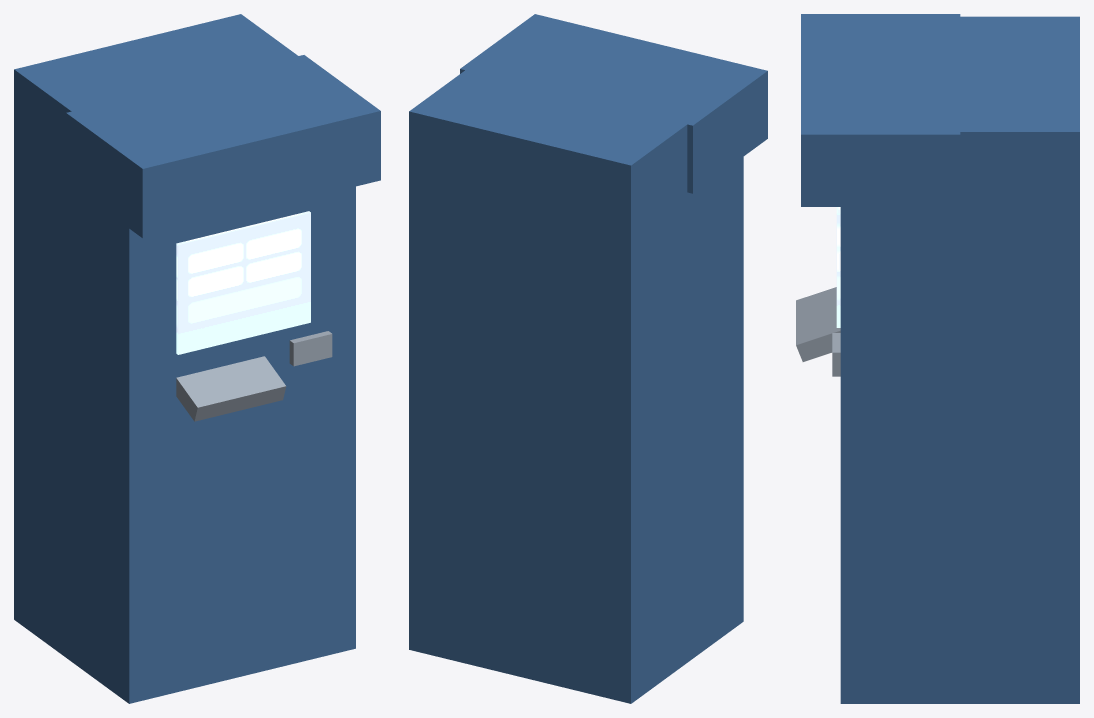
Rendered from prop_atm_machine.glb.
The picture shows the model from 3 angles, left to right: view 1: azimuth 30°, elevation 25°; view 2: azimuth 150°, elevation 25°; view 3: azimuth 270°, elevation 25°; orthographic projection. The views are drawn at different scales.
Visible parts, largest first — view 1: primary_color, screen_display, keypad_slot; view 2: primary_color; view 3: primary_color, keypad_slot, screen_display.
Boxes of the visible parts, <box> form: primary_color: <box>14,14,380,703</box>; screen_display: <box>176,211,310,354</box>; keypad_slot: <box>176,331,332,421</box>; primary_color: <box>409,14,767,703</box>; primary_color: <box>801,14,1079,703</box>; keypad_slot: <box>796,287,840,376</box>; screen_display: <box>836,207,840,327</box>.
Size of the model in its own units: 0.86 by 1.9 by 0.8548.
Materials: 3 (3 with a texture image).
